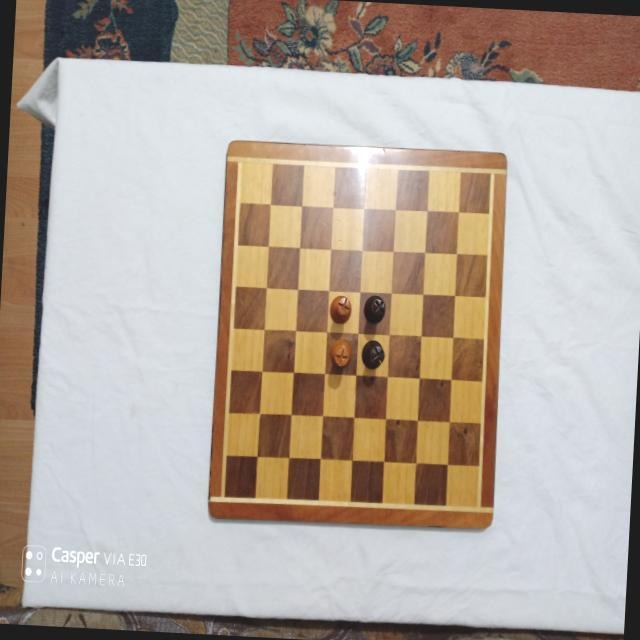black-rook: (361, 338, 387, 370), (362, 294, 386, 325)
white-rook: (329, 294, 353, 325), (328, 336, 352, 367)
